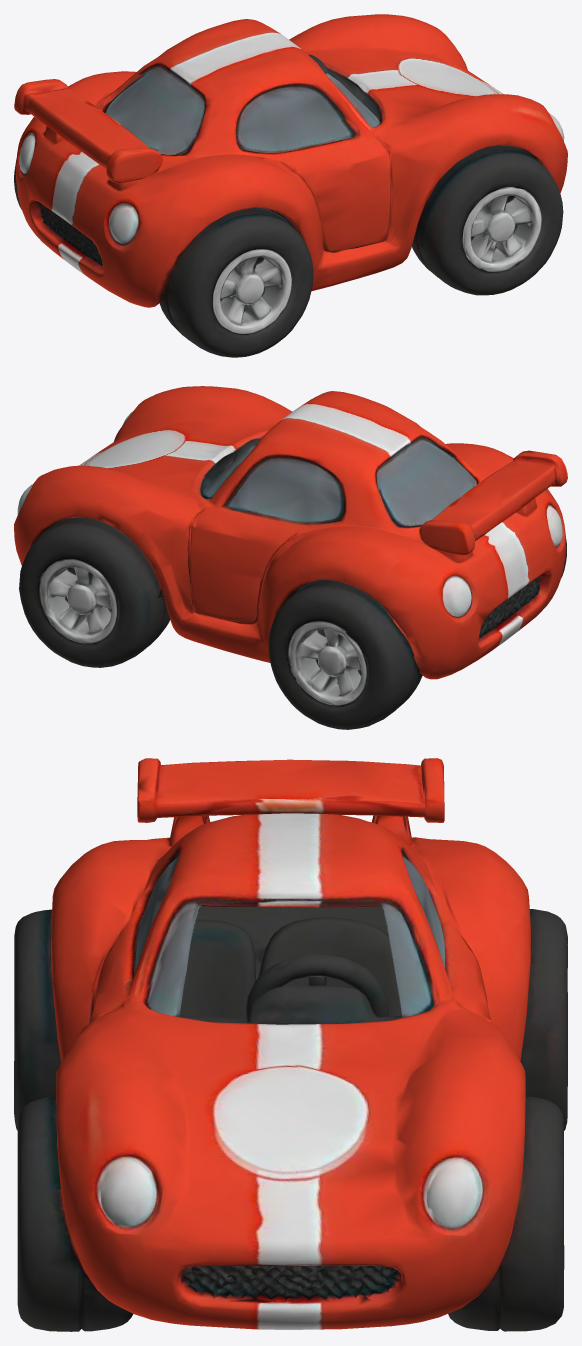
The model's file is racecar.glb.
3 views of the same model, one above another, from view 1: azimuth 30°, elevation 25°; view 2: azimuth 150°, elevation 25°; view 3: azimuth 270°, elevation 25° (orthographic). The views are drawn at different scales.
Parts seen in each view (by area): view 1: tripo_node_43d78a1d-68cf-42dc-9160-5765f4f7d767; view 2: tripo_node_43d78a1d-68cf-42dc-9160-5765f4f7d767; view 3: tripo_node_43d78a1d-68cf-42dc-9160-5765f4f7d767.
Part boxes in pixels (box(x1,y1,x2,y2)): tripo_node_43d78a1d-68cf-42dc-9160-5765f4f7d767: box(14, 14, 567, 357); tripo_node_43d78a1d-68cf-42dc-9160-5765f4f7d767: box(14, 386, 567, 729); tripo_node_43d78a1d-68cf-42dc-9160-5765f4f7d767: box(14, 758, 567, 1331).
Bounding box in the file's own units: 1 × 0.476 × 0.6783.
1 material, 1 textured.
